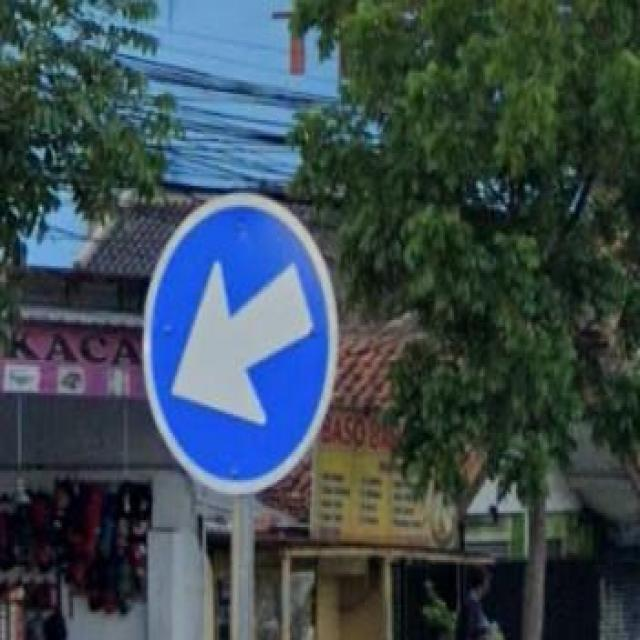traffic sign: (142, 202, 333, 486)
